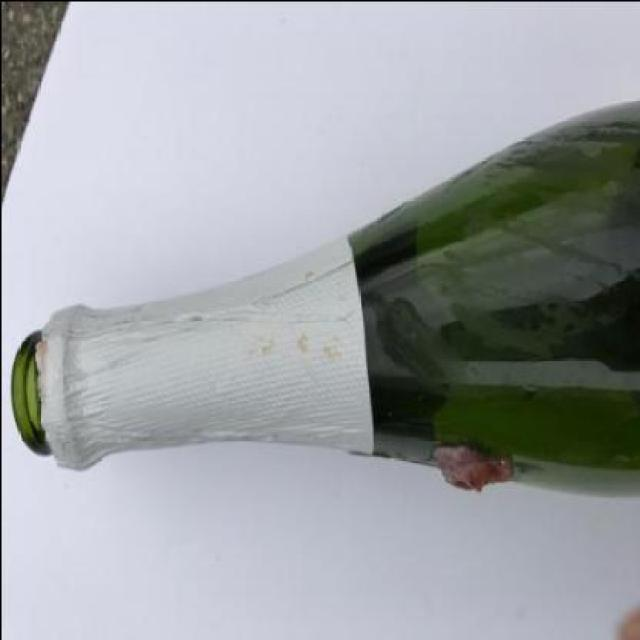glass: (7, 95, 638, 497)
